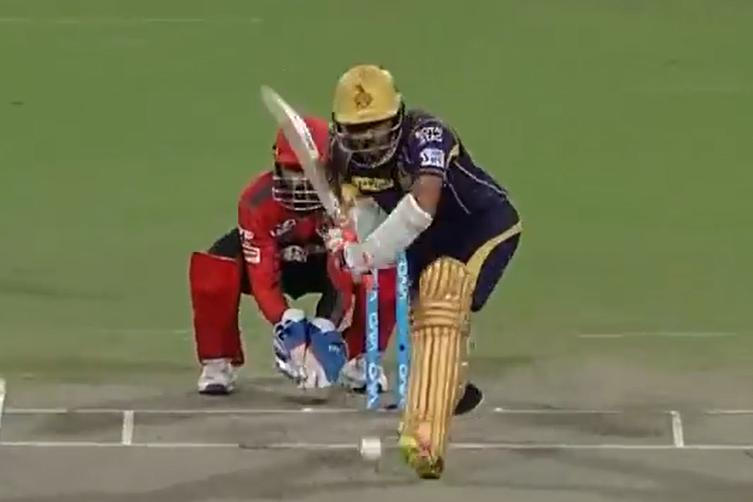batsman: (292, 45, 502, 469)
